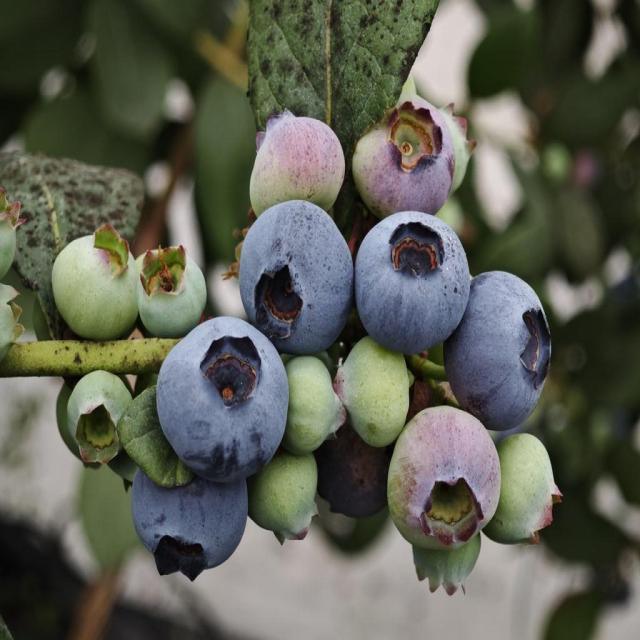RipeBlueBerry: (155, 312, 291, 481), (236, 196, 356, 358), (445, 268, 556, 433), (355, 212, 472, 354), (130, 452, 249, 579)
Semi-RipeBlueBerry: (384, 402, 504, 554), (352, 92, 456, 214), (246, 110, 347, 211)
UnripeBlueBerry: (50, 224, 141, 340), (336, 335, 411, 448), (487, 428, 558, 546), (65, 368, 135, 468), (136, 244, 208, 337), (282, 357, 344, 458)
